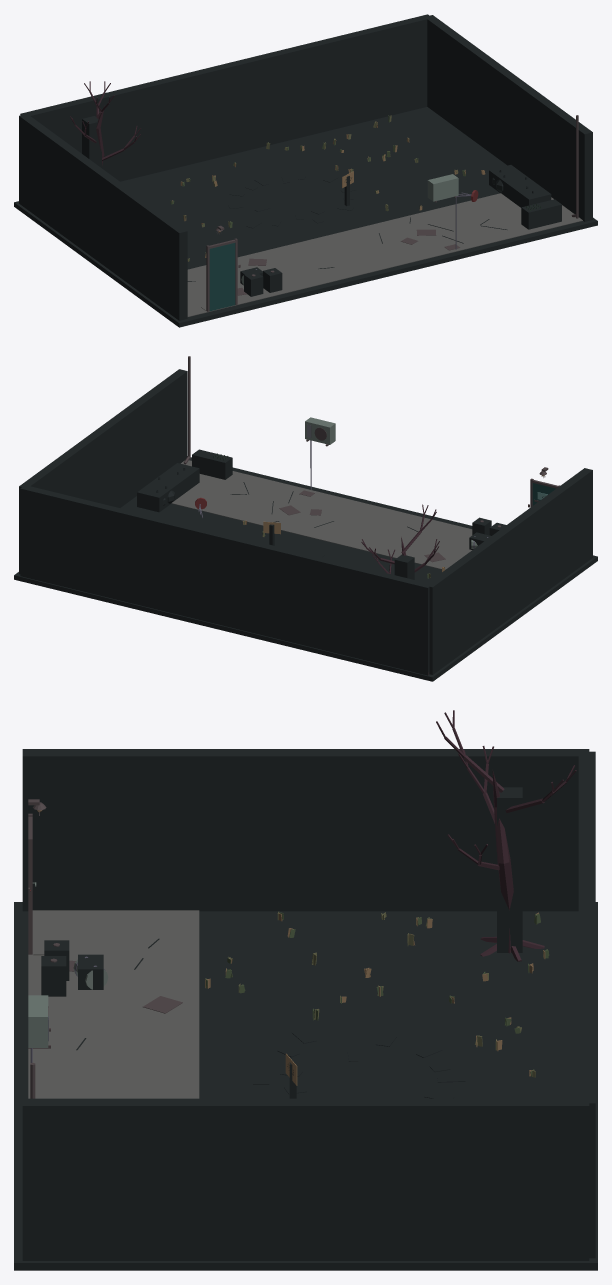
The model's file is bar_curte.glb.
3 renders of one model, top to bottom at view 1: azimuth 30°, elevation 25°; view 2: azimuth 150°, elevation 25°; view 3: azimuth 270°, elevation 25°, orthographic. The views are drawn at different scales.
Visible parts, largest first — view 1: Coliziune, Curte; view 2: Coliziune, Curte; view 3: Coliziune, Curte.
Part boxes in pixels (left/top/right/bottom): Coliziune: left=14, top=14, right=597, bottom=327; Curte: left=70, top=81, right=582, bottom=316; Coliziune: left=14, top=369, right=597, bottom=681; Curte: left=156, top=356, right=559, bottom=674; Coliziune: left=14, top=749, right=597, bottom=1270; Curte: left=28, top=710, right=576, bottom=1098.
Size of the model in its own units: 15 by 4.49 by 10.25.
